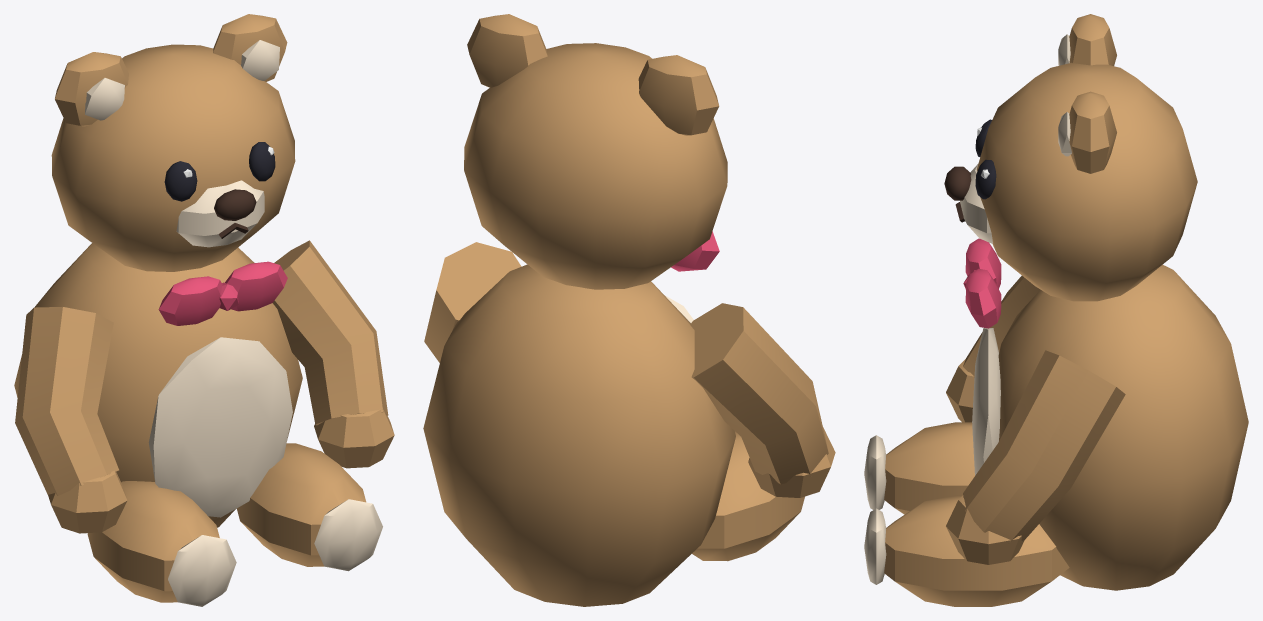
Rendered from furn_teddy.glb.
The picture shows the model from 3 angles, left to right: view 1: azimuth 30°, elevation 25°; view 2: azimuth 150°, elevation 25°; view 3: azimuth 270°, elevation 25°; orthographic projection. The views are drawn at different scales.
Visible parts, largest first — view 1: furn_teddy_body; view 2: furn_teddy_body; view 3: furn_teddy_body.
Part boxes in pixels (x1,y1,x2,y2): furn_teddy_body: (14, 14, 394, 606); furn_teddy_body: (423, 14, 835, 606); furn_teddy_body: (864, 14, 1248, 606).
Size of the model in its own units: 0.4106 by 0.552 by 0.377.
